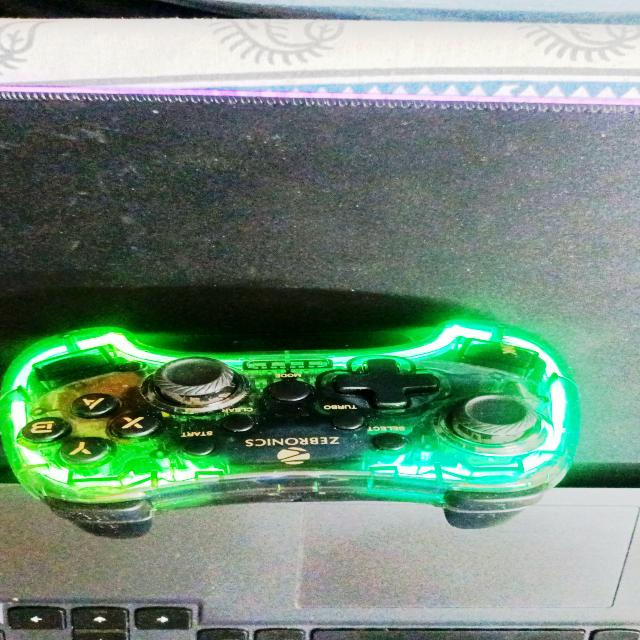gamepad: (0, 318, 584, 540)
